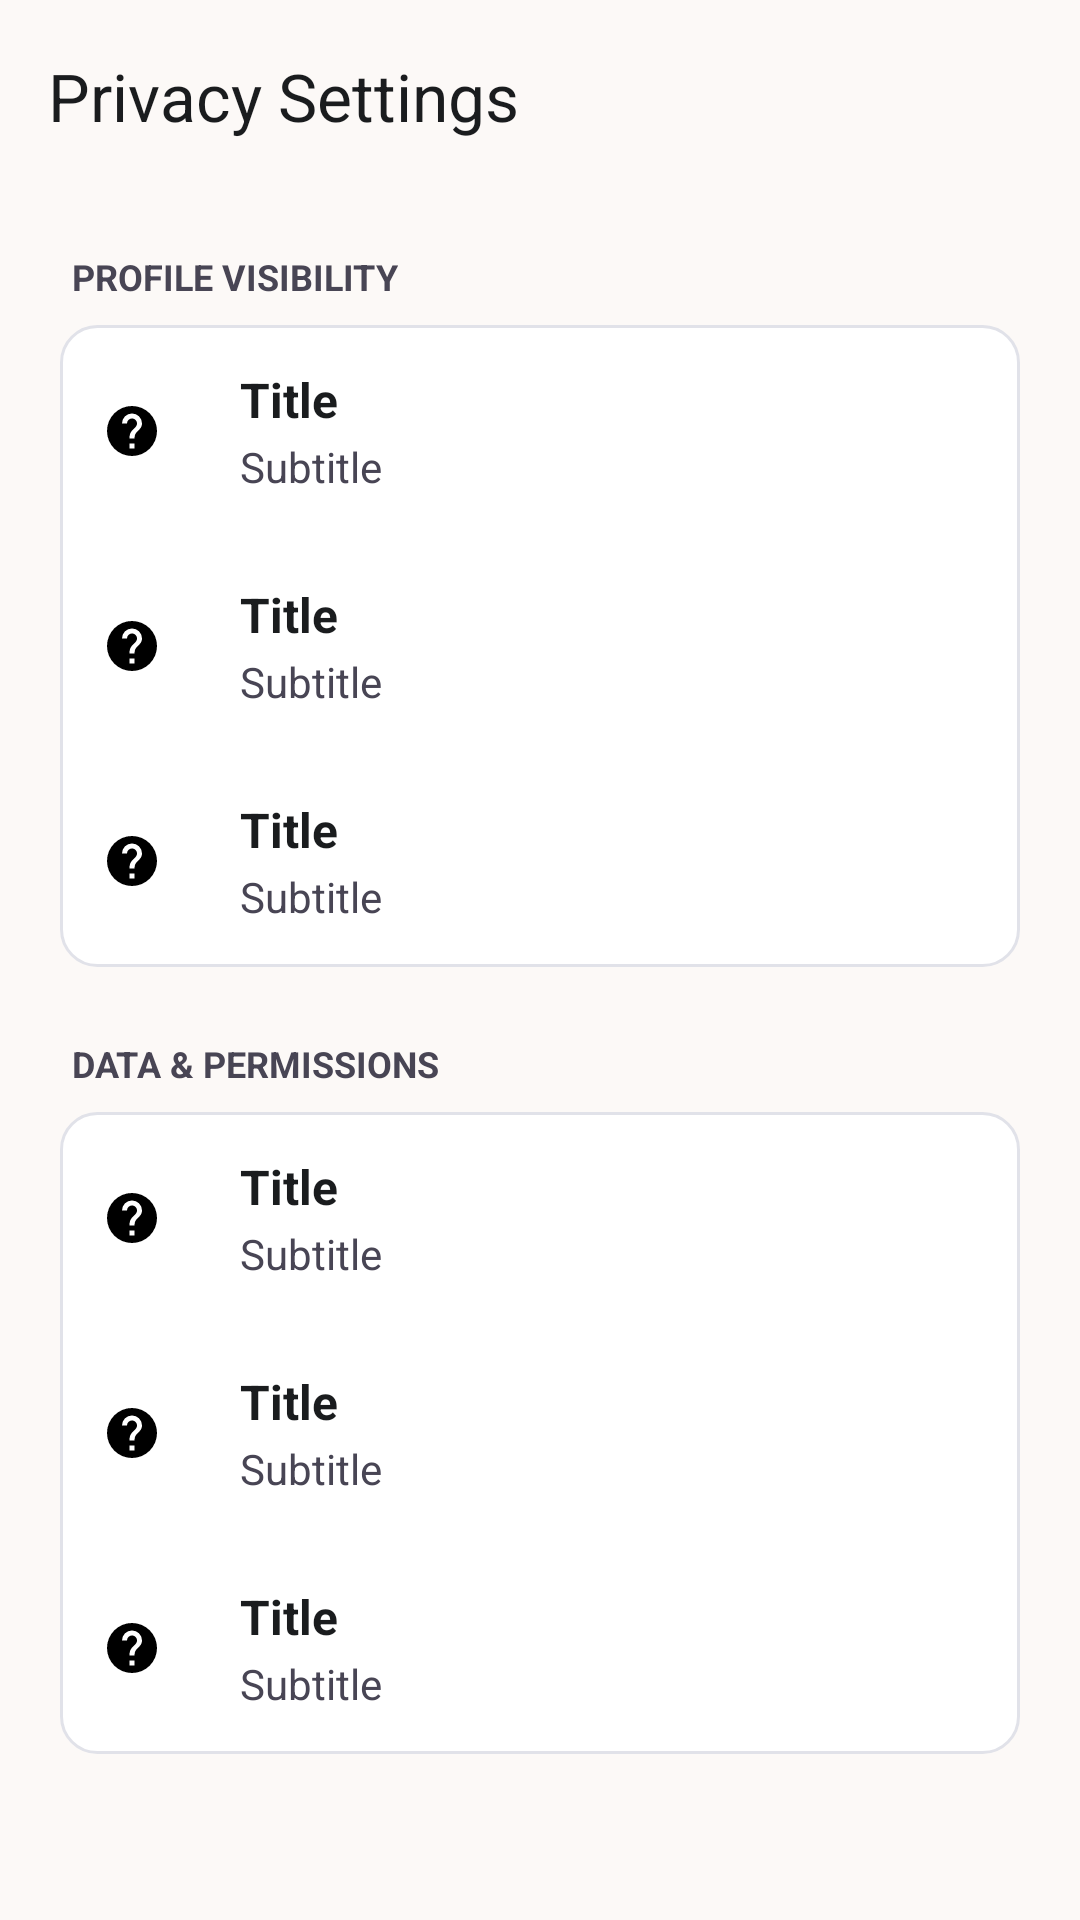

Named icons in this screenshot (1080 × 1920) and their bounding boxes, (x1, y1, x2, y2):
help: (107, 406, 157, 456), (107, 621, 157, 671), (107, 836, 157, 886), (107, 1193, 157, 1243), (107, 1408, 157, 1458), (107, 1623, 157, 1673)
